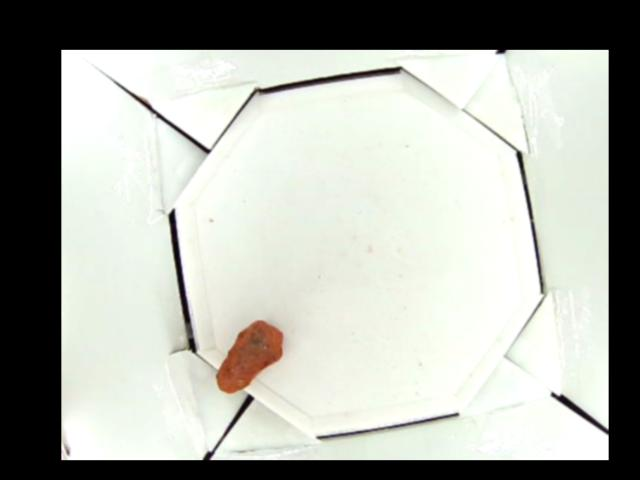Brisk: (212, 321, 284, 391)
